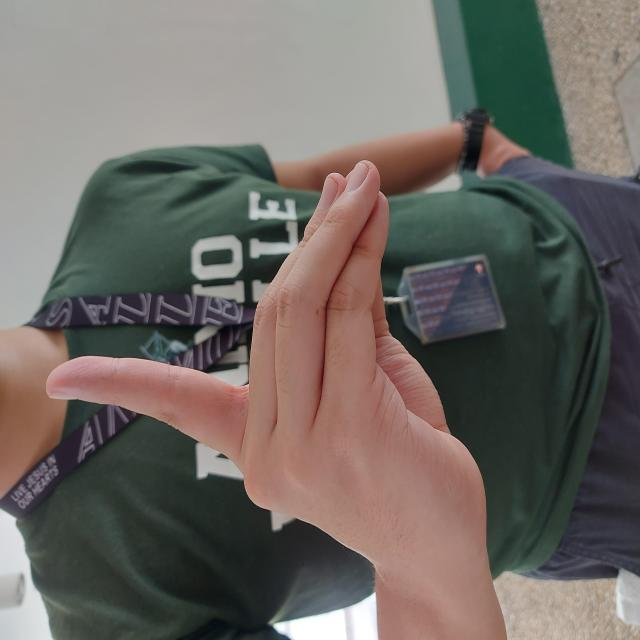D: (68, 43, 482, 487)
